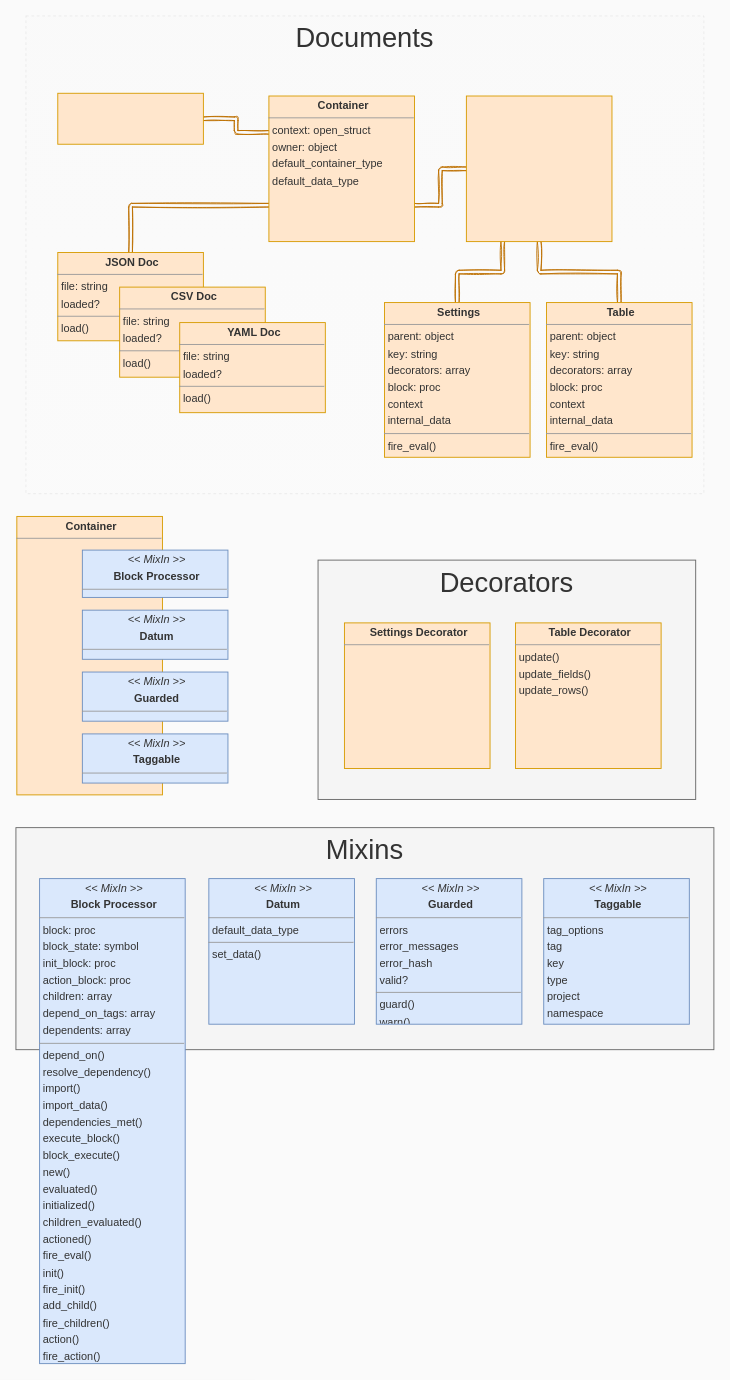
Image size: 730x1380. Some labels were removed from this diagram. The centre of each missing label's shape, as x and y in pixels:
Action: the point at 130,118
Model odata: open_struct oraw: open_struct settings() table(): the point at 538,168
